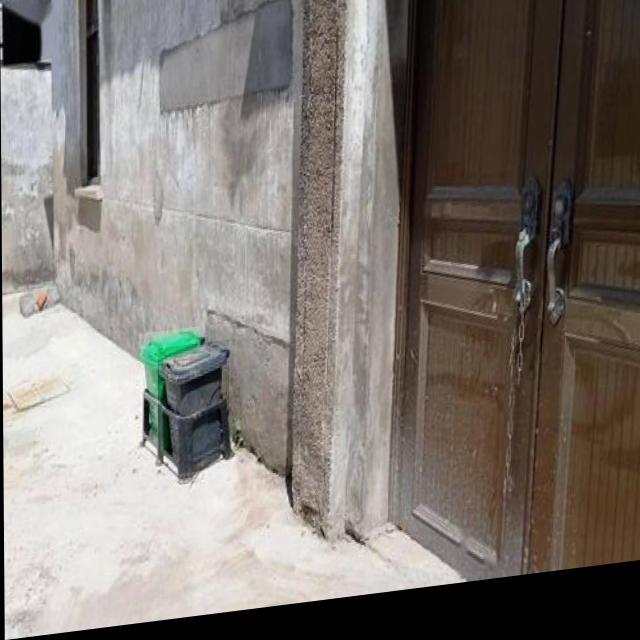garbage_bin: (157, 346, 229, 480), (139, 331, 200, 455)
